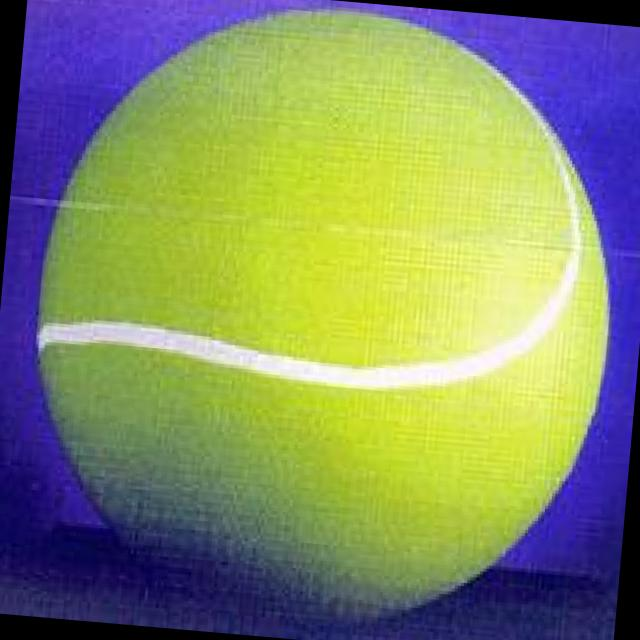Tennis Ball: (36, 8, 613, 620)
